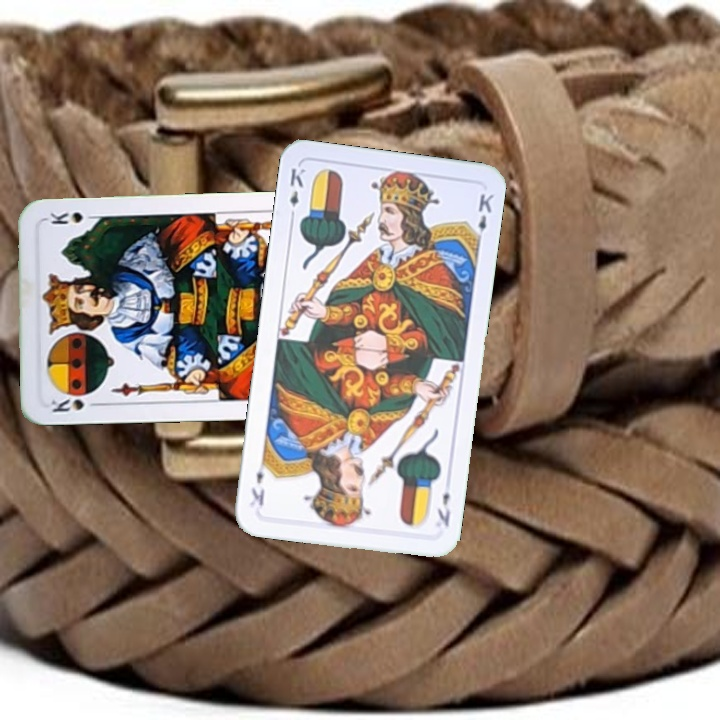EK: (285, 164, 307, 223), (433, 488, 453, 529)
SK: (47, 394, 104, 415)
